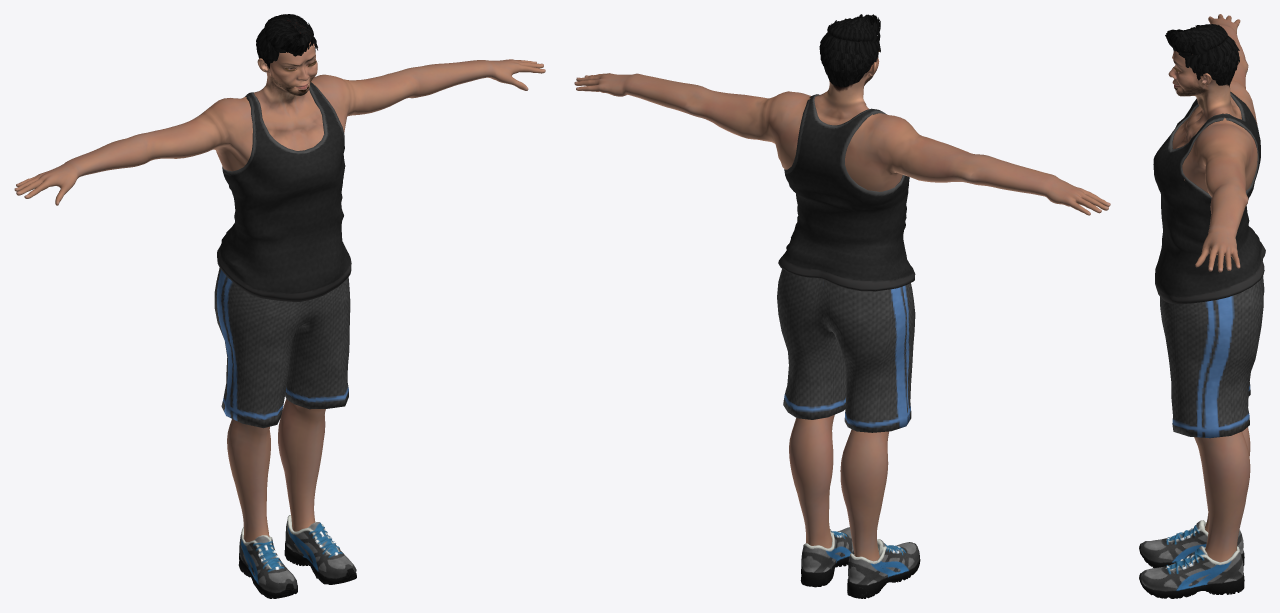
Rendered from ToolbagToddModel.obj.
3 renders of one model, left to right at view 1: azimuth 30°, elevation 25°; view 2: azimuth 150°, elevation 25°; view 3: azimuth 270°, elevation 25°, orthographic.
Parts seen in each view (by area): view 1: Body, Tops, Bottoms, Shoes, Hair; view 2: Body, Bottoms, Tops, Shoes, Hair; view 3: Body, Bottoms, Tops, Shoes, Hair.
Part boxes in pixels (x1,y1,x2,y2): Body: (14, 19, 545, 542); Tops: (217, 82, 351, 301); Bottoms: (214, 268, 350, 428); Shoes: (238, 515, 356, 598); Hair: (256, 14, 317, 68); Body: (574, 33, 1110, 561); Bottoms: (777, 269, 915, 432); Tops: (778, 94, 915, 291); Shoes: (800, 527, 920, 598); Hair: (819, 14, 880, 87); Body: (1168, 14, 1257, 562); Bottoms: (1160, 276, 1264, 438); Tops: (1153, 91, 1265, 304); Shoes: (1139, 520, 1244, 598); Hair: (1165, 24, 1239, 85).
Bounding box in the file's own units: 187 × 187 × 39.11.
1 material, 1 textured.
